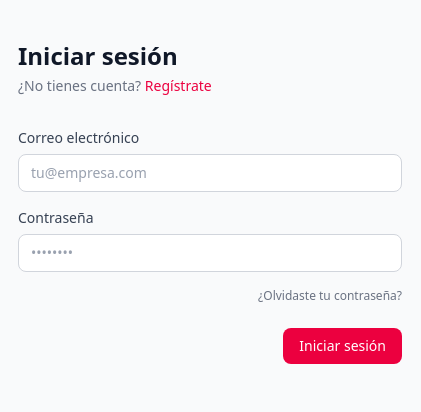
Scenario: LoginPage › muestra alerta de error cuando el login falla
Type "wrong@nn.com" into the field labelled "Correo electrónico".
click(210, 173); type("wrong@nn.com")  # box [18,154,402,192]
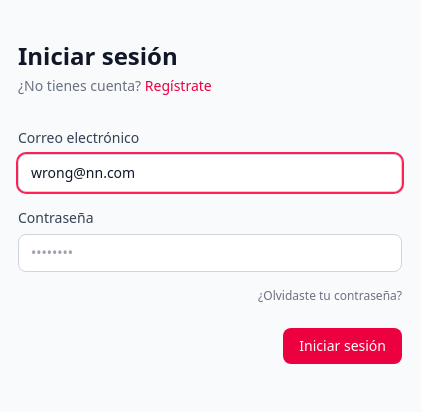
Type "badpass" into the password field labelled "Contraseña".
click(210, 253); type("badpass")  # box [18,234,402,272]
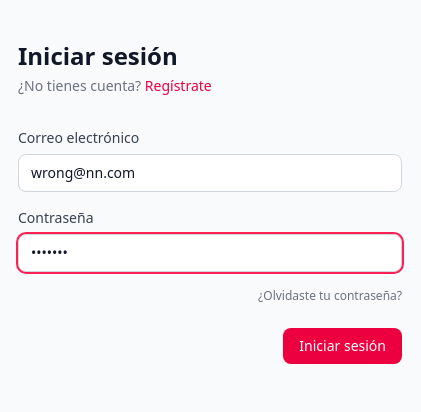
Click the button "Iniciar sesión".
click(343, 346)  # box [283,328,402,364]
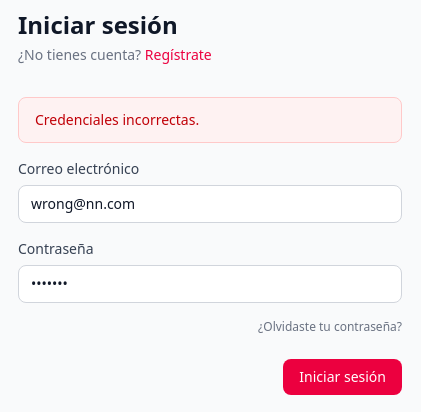
Now the message reads "Credenciales incorrectas.", box [35,110,199,129]
